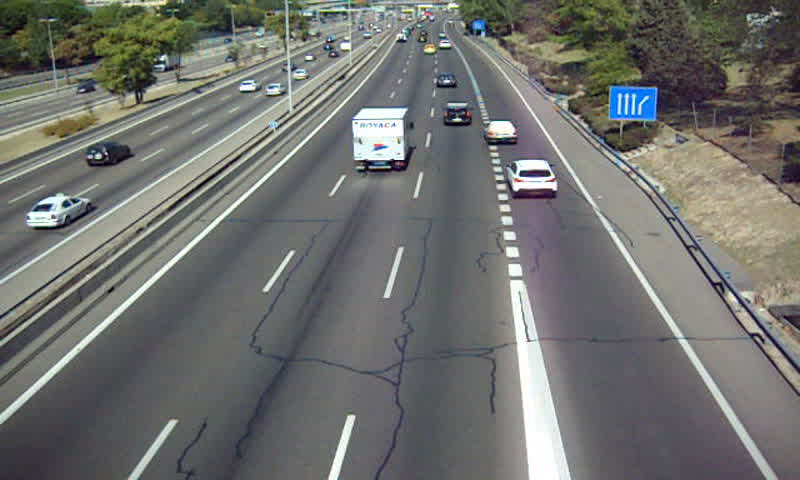car: (507, 158, 558, 197), (483, 120, 517, 143), (442, 102, 471, 124), (435, 72, 455, 88), (422, 42, 436, 54), (438, 38, 452, 48)
small-truck: (353, 107, 412, 172)
